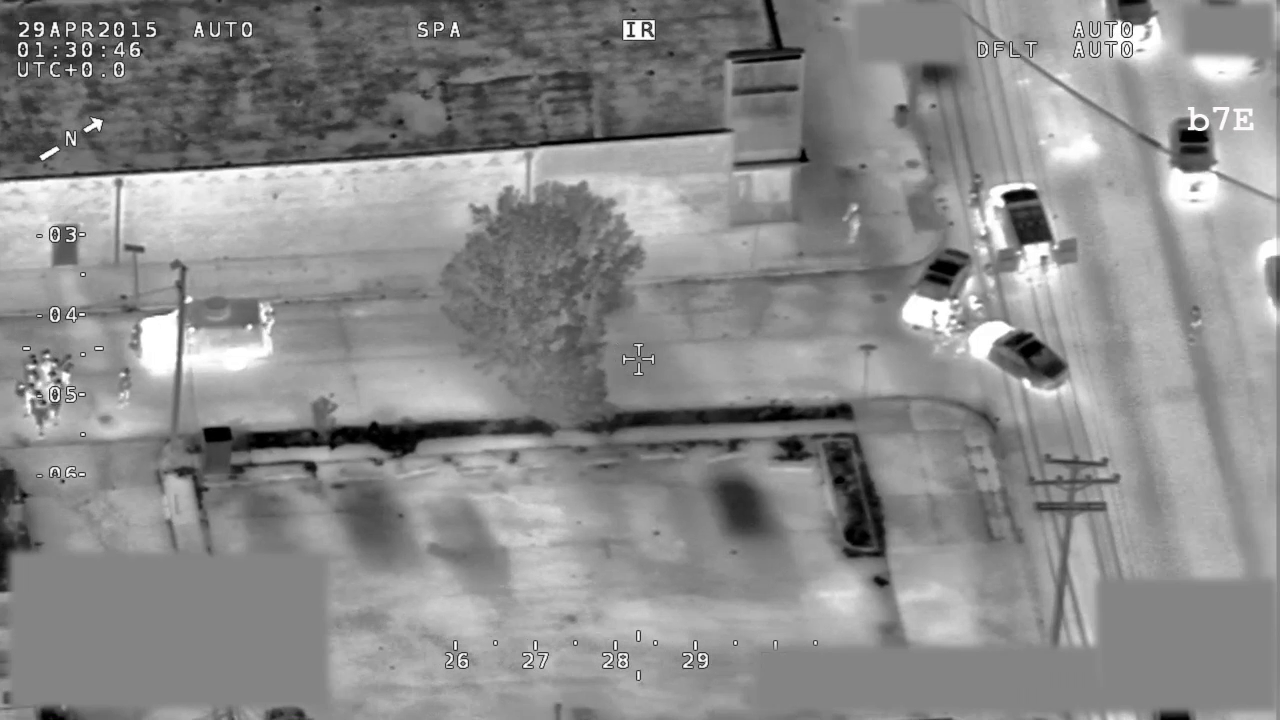vehicle: (138, 294, 285, 377), (980, 179, 1082, 280), (965, 316, 1073, 394), (902, 246, 976, 329), (1165, 114, 1222, 207), (1105, 2, 1164, 61), (1258, 232, 1280, 312)
